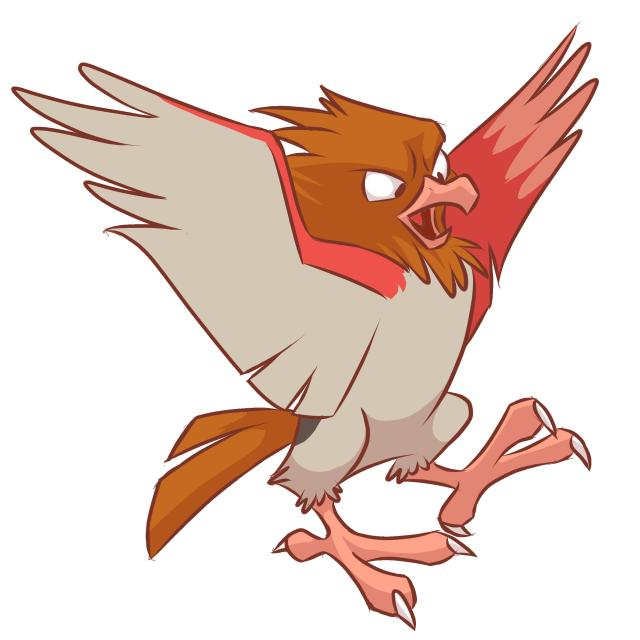Spearow: (127, 74, 588, 568)
